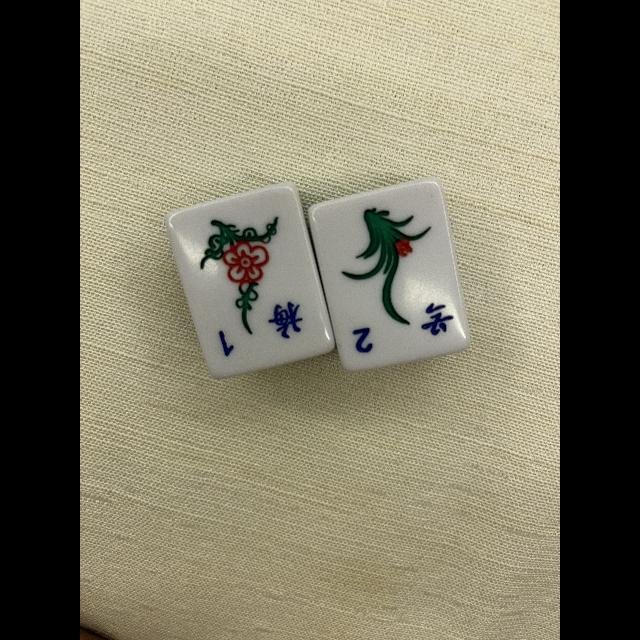f1: (194, 292, 320, 368)
f2: (338, 295, 458, 363)
